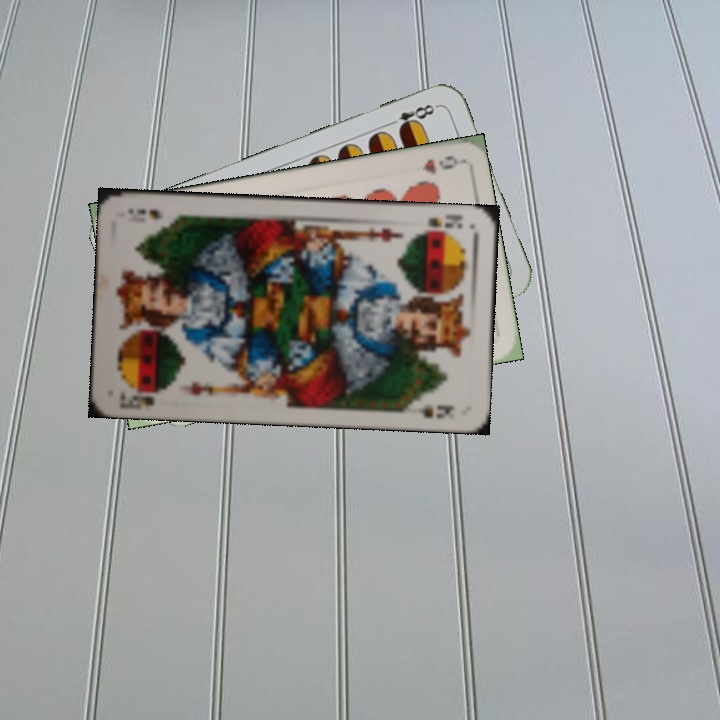E8: (383, 100, 440, 134)
H9: (418, 151, 462, 177)
SK: (115, 385, 157, 410), (424, 211, 465, 230)
